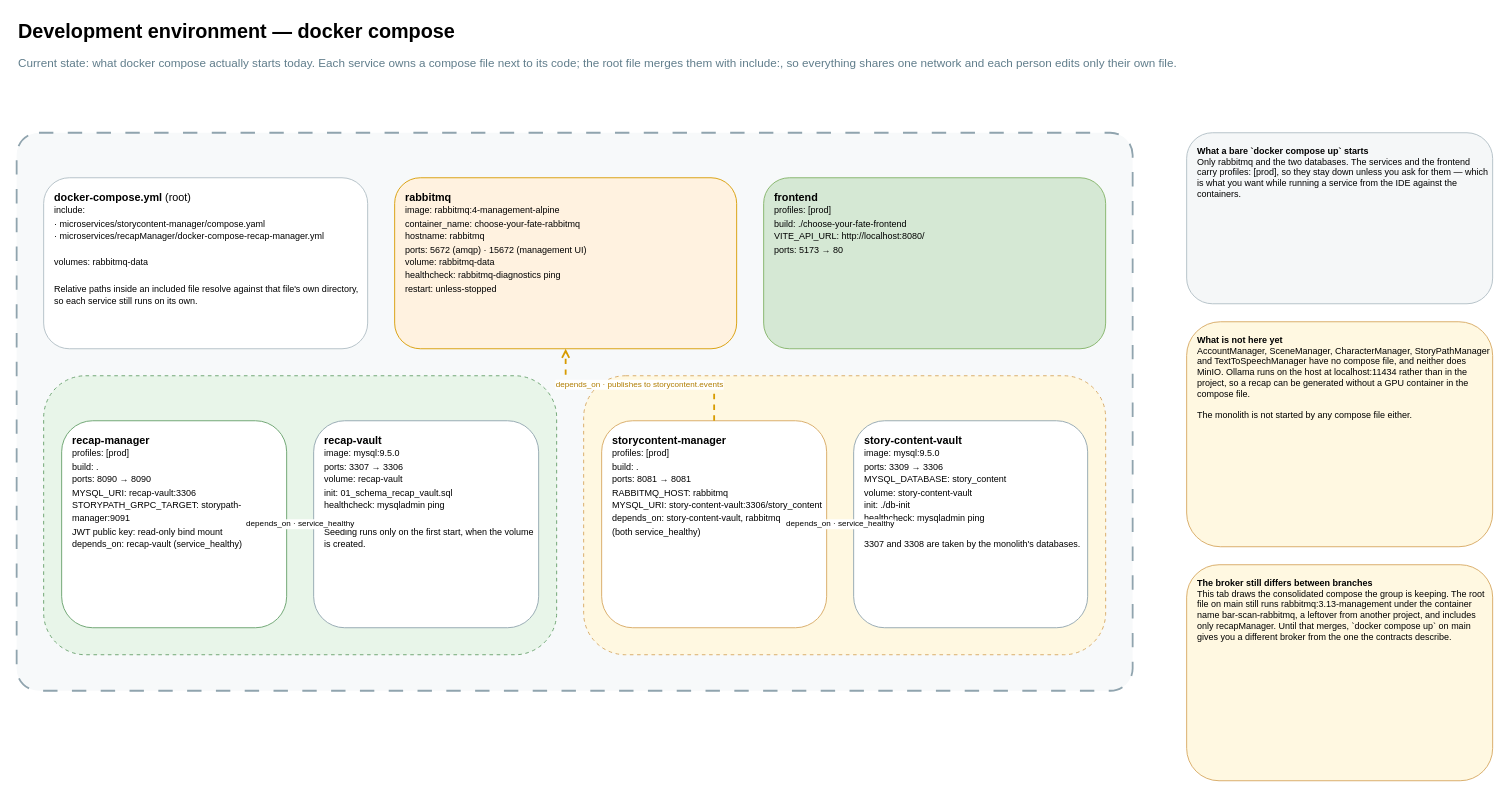
Image size: 1508x797. Some labels were removed from this diagram. Each missing label, with the box of its shape:
docker compose project — one network: (15, 131, 1133, 691)
included — microservices/recapManager/: (43, 375, 557, 655)
included — microservices/storycontent-manager/: (583, 375, 1106, 655)
